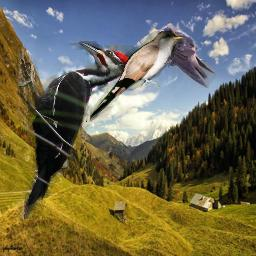Cuckoo: (86, 31, 185, 122)
Swallow: (156, 25, 216, 88)
Woodpecker: (17, 41, 143, 219)
